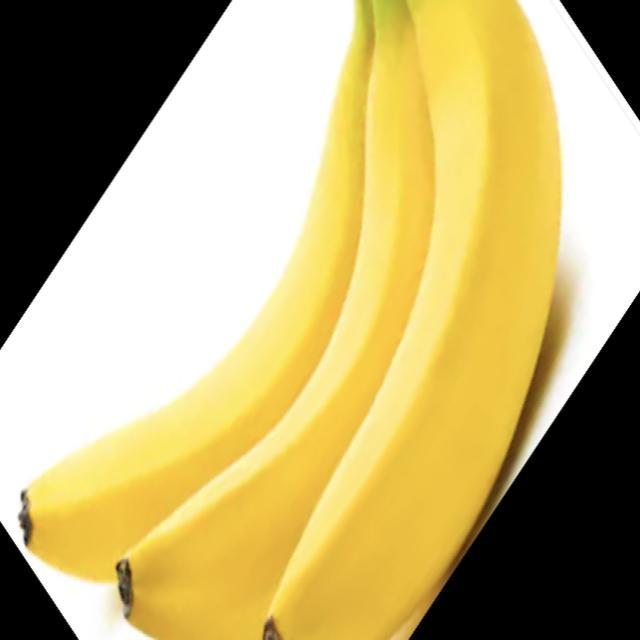Banana: (17, 0, 563, 639)
